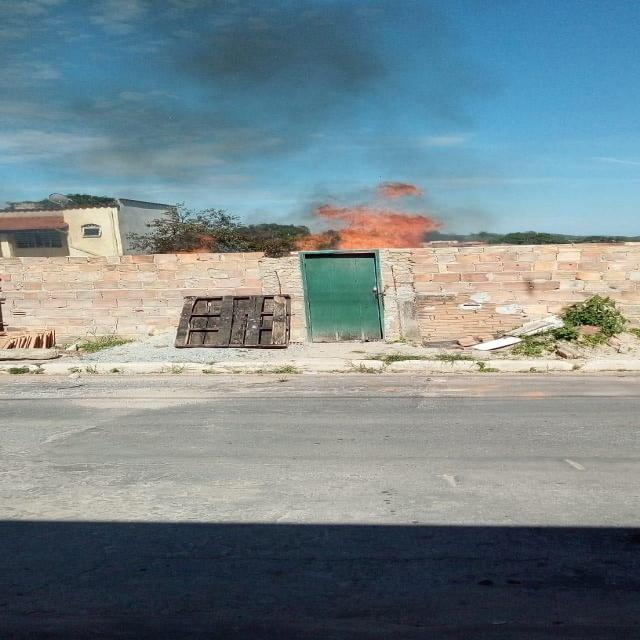Fire: (288, 184, 438, 254), (161, 232, 220, 255)
